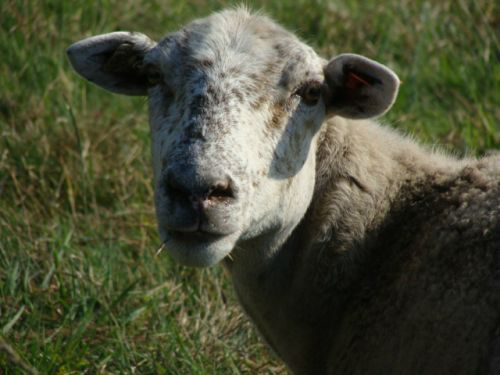koyun: (66, 6, 399, 268)
